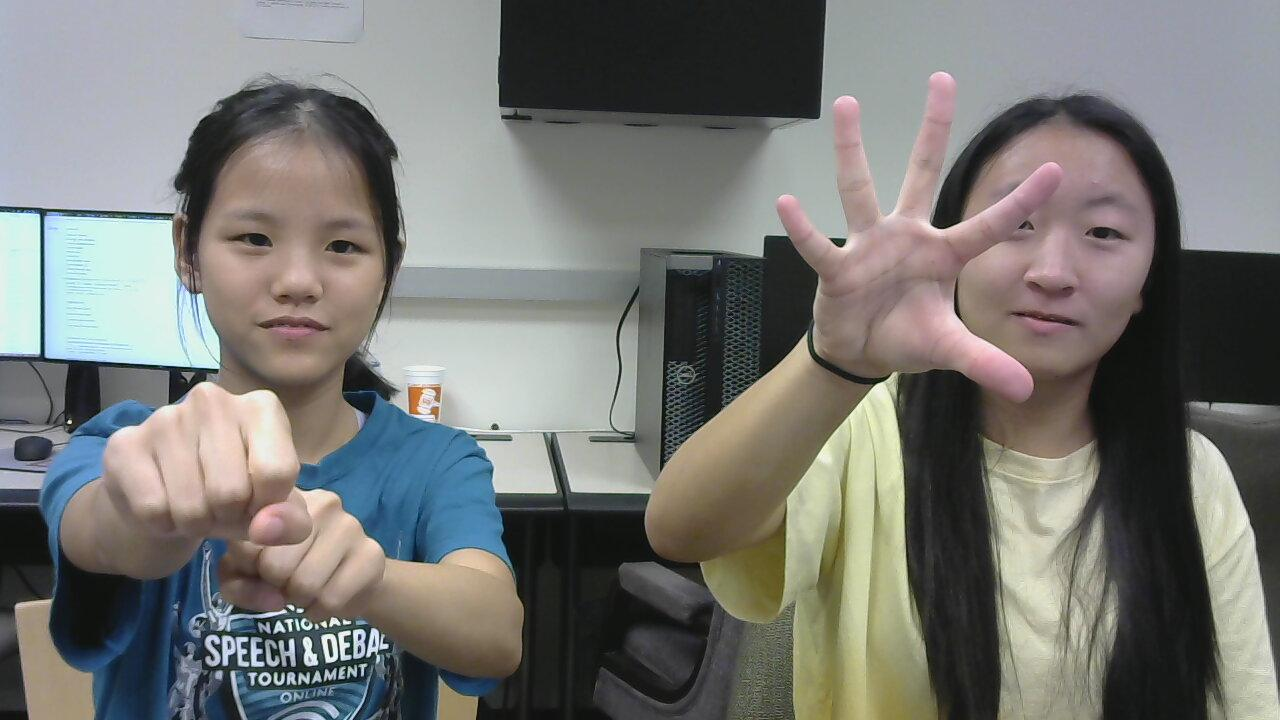fist: (76, 366, 306, 523), (243, 463, 387, 617)
hands: (762, 67, 1043, 419)
